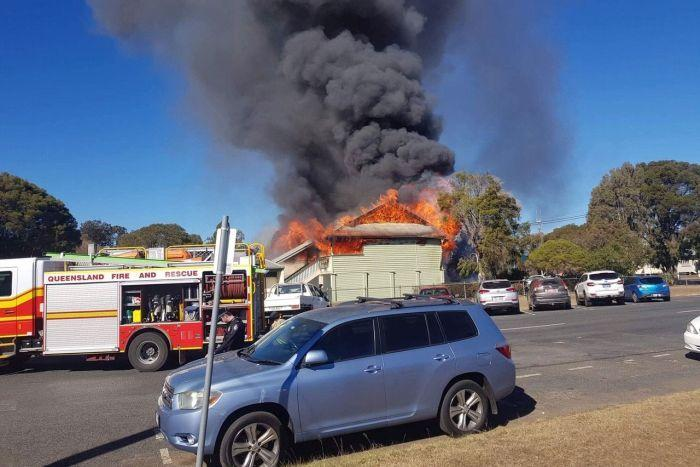Fire: (278, 179, 456, 265)
